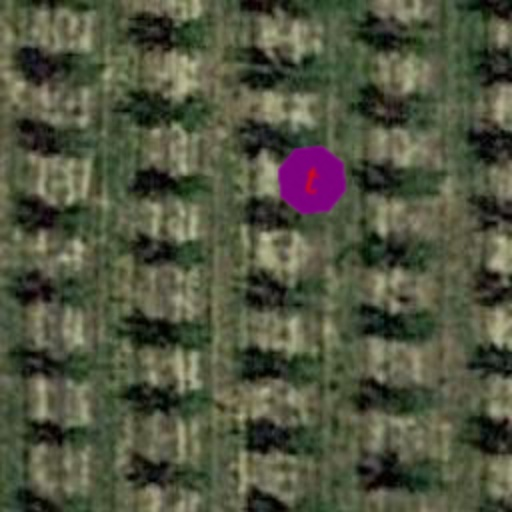octagon: (266, 134, 358, 226)
